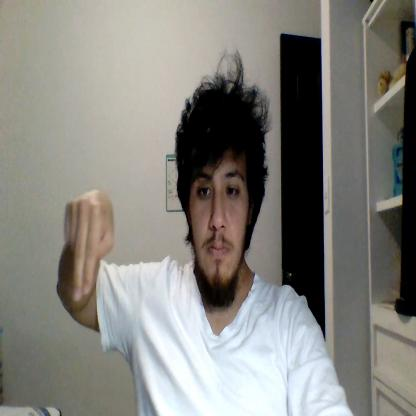N: (64, 192, 114, 304)
